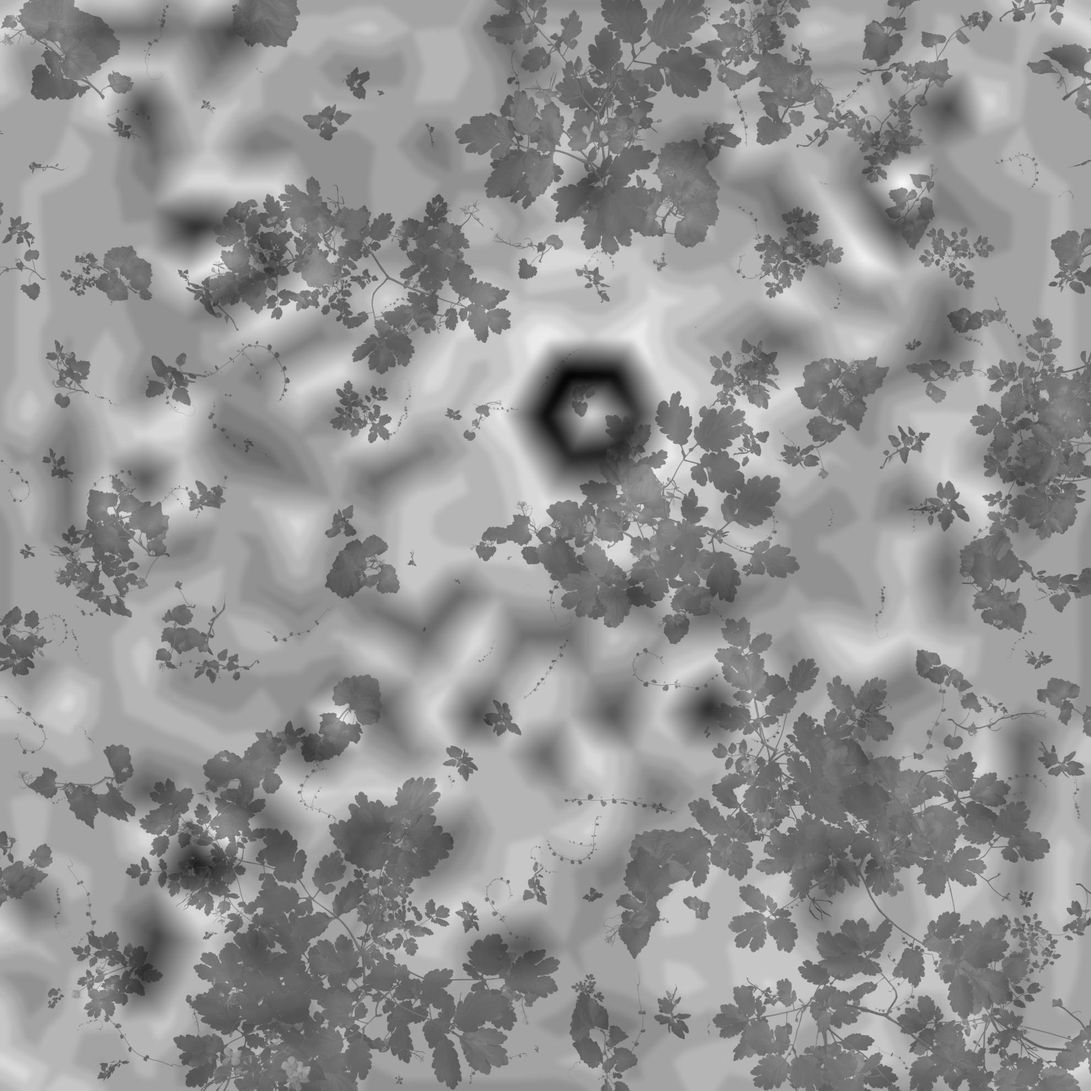landmine: (511, 333, 658, 491), (791, 846, 927, 971)
